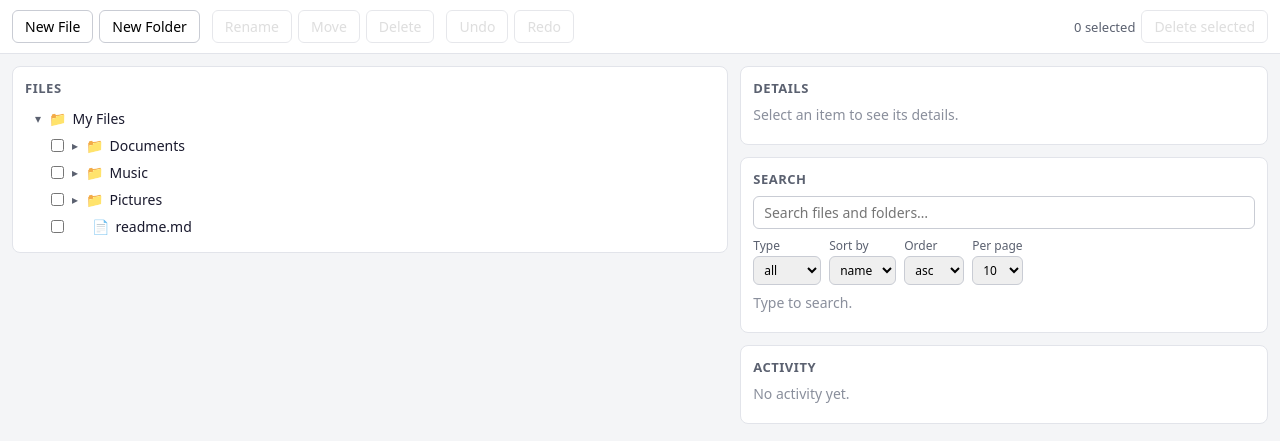
Test: rendering › collapses an expanded folder
Click the button named "Expand Documents" at (75, 146), box [70,137,80,154]
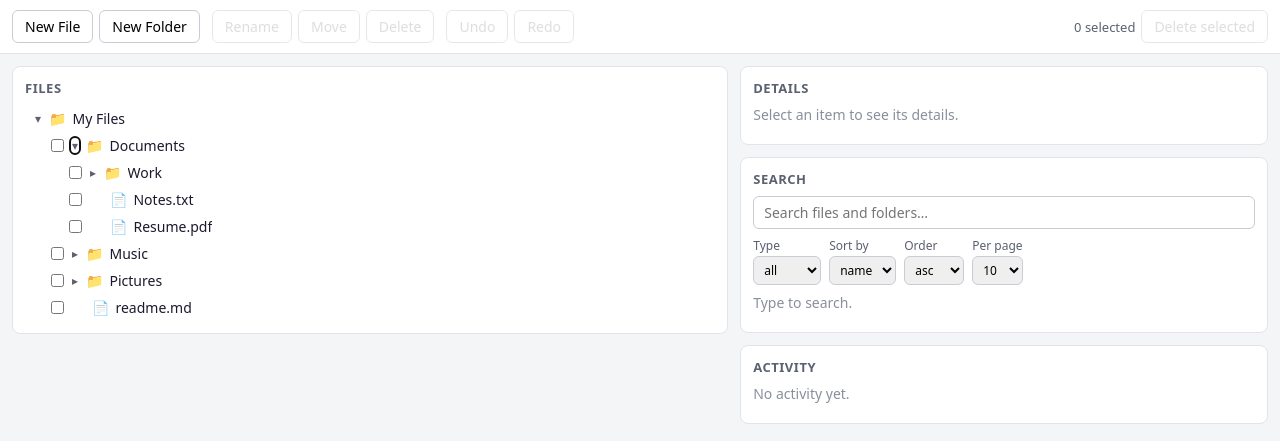
Now the text "Resume.pdf" is shown, box [134,217,212,236]
Click the button named "Collapse Documents" at (75, 146), box [70,137,80,154]
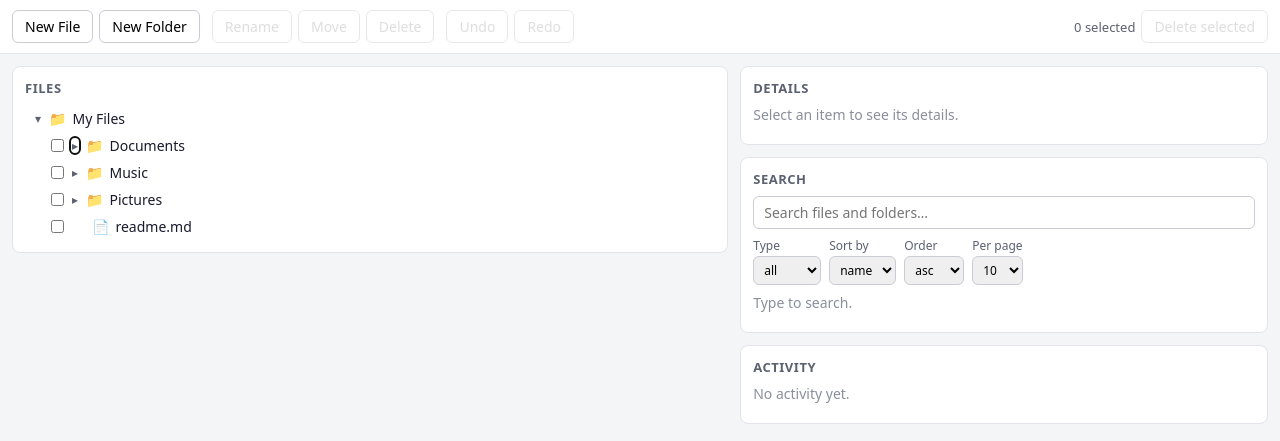
Now the text "Resume.pdf" is gone
